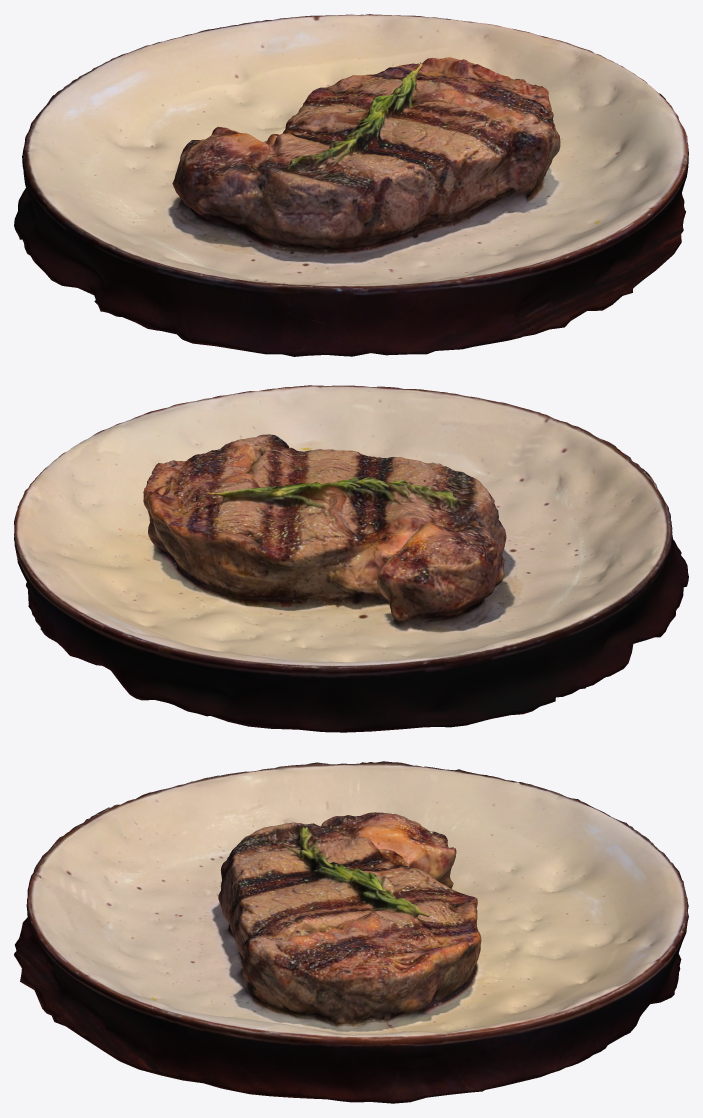
File: ar-bife-ancho.glb
The picture shows the model from 3 angles, top to bottom: view 1: azimuth 30°, elevation 25°; view 2: azimuth 150°, elevation 25°; view 3: azimuth 270°, elevation 25°; orthographic projection.
Parts seen in each view (by area): view 1: ObjectCapture; view 2: ObjectCapture; view 3: ObjectCapture.
Part boxes in pixels (bbox=[...]): ObjectCapture: bbox=[14, 14, 688, 356]; ObjectCapture: bbox=[14, 385, 688, 732]; ObjectCapture: bbox=[14, 761, 688, 1103].
Bounding box in the file's own units: 0.2762 × 0.053 × 0.2783.
1 material, 1 textured.
